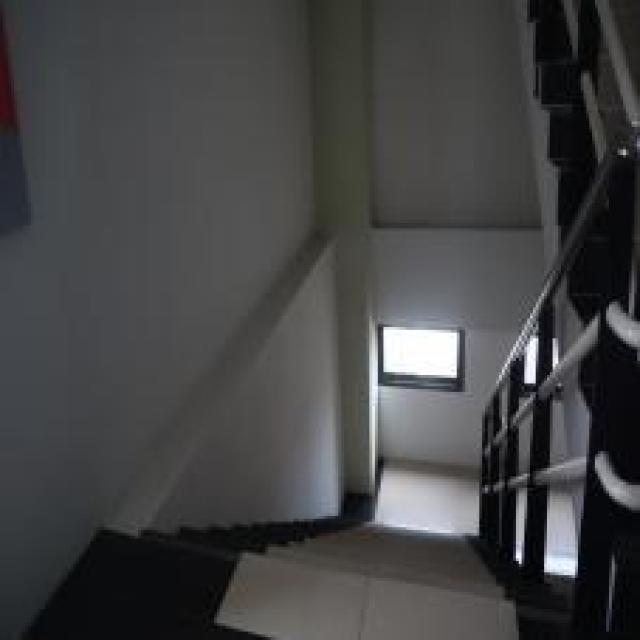downstair: (221, 540, 489, 638)
